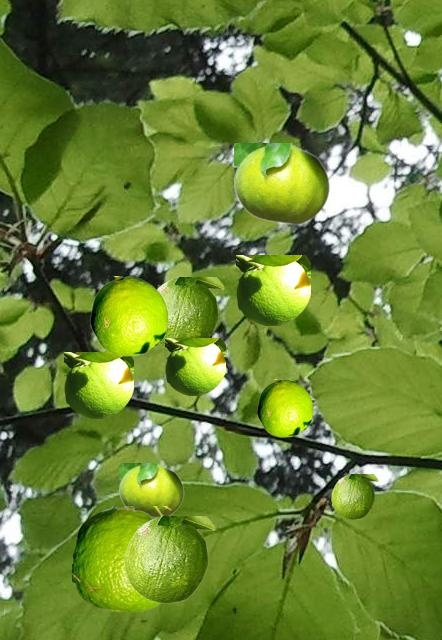dalandan: (72, 506, 171, 611), (124, 516, 214, 602), (234, 143, 329, 224), (90, 276, 167, 355), (236, 255, 309, 324), (157, 277, 223, 348), (64, 352, 132, 417), (119, 463, 183, 517), (165, 338, 224, 394), (257, 379, 312, 436), (331, 474, 377, 518)
